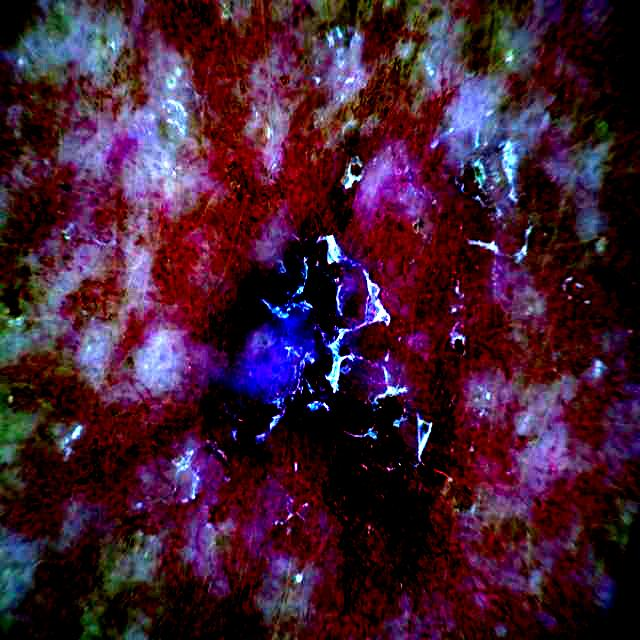AKIEC: (169, 121, 518, 570)
